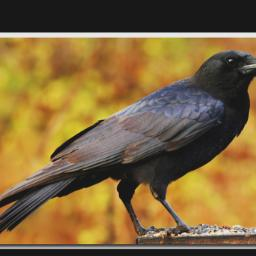Crow: (0, 47, 256, 236)
